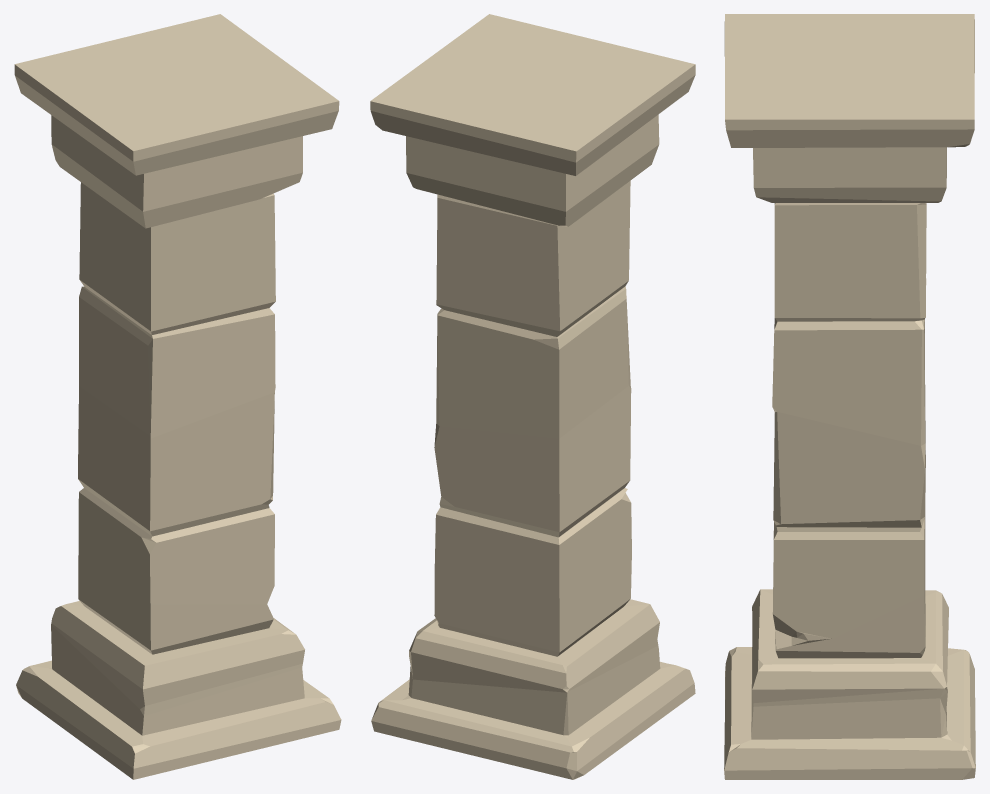
The model's file is SM_SM_Peller_01.012.fbx.
3 views of the same model, side by side, from view 1: azimuth 30°, elevation 25°; view 2: azimuth 150°, elevation 25°; view 3: azimuth 270°, elevation 25° (orthographic). The views are drawn at different scales.
Parts seen in each view (by area): view 1: SM_Peller_01.012; view 2: SM_Peller_01.012; view 3: SM_Peller_01.012.
Boxes of the visible parts, x1=… form: SM_Peller_01.012: x1=14, y1=14, x2=341, y2=779; SM_Peller_01.012: x1=370, y1=14, x2=695, y2=779; SM_Peller_01.012: x1=724, y1=14, x2=975, y2=779.
Size of the model in its own units: 104 by 300 by 104.
